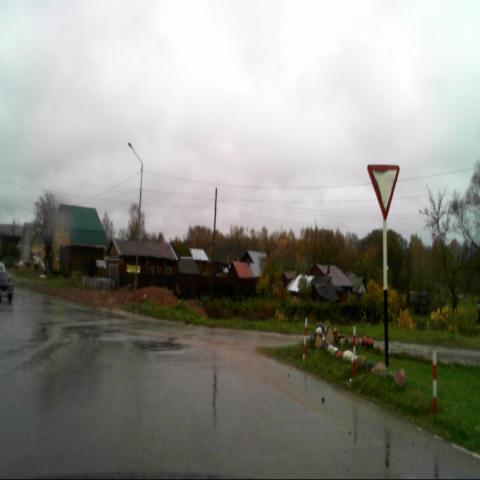2_4: (366, 164, 400, 221)
